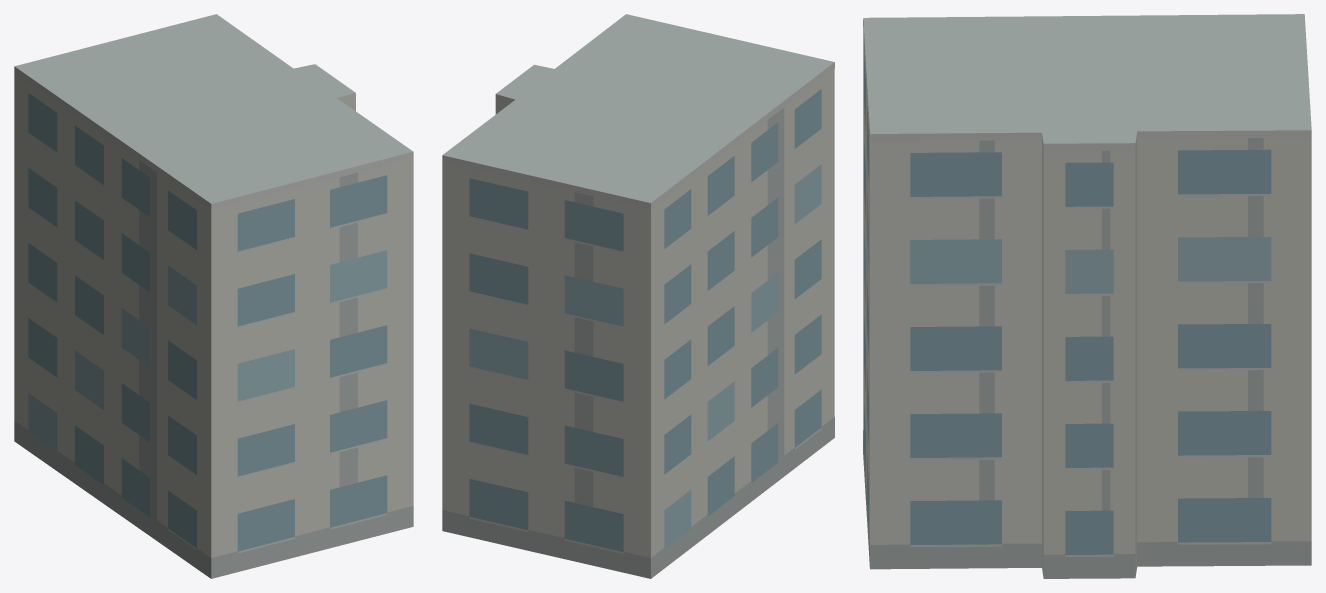
The model's file is survey-upis-32885165.glb.
The picture shows the model from 3 angles, left to right: view 1: azimuth 30°, elevation 25°; view 2: azimuth 150°, elevation 25°; view 3: azimuth 270°, elevation 25°; orthographic projection. The views are drawn at different scales.
Visible parts, largest first — view 1: survey-upis-32885165.tmp; view 2: survey-upis-32885165.tmp; view 3: survey-upis-32885165.tmp.
Part boxes in pixels (x1,y1,x2,y2): survey-upis-32885165.tmp: (14, 14, 413, 578); survey-upis-32885165.tmp: (442, 14, 834, 578); survey-upis-32885165.tmp: (863, 14, 1311, 578).
Size of the model in its own units: 9.02 by 14.1 by 13.18.
